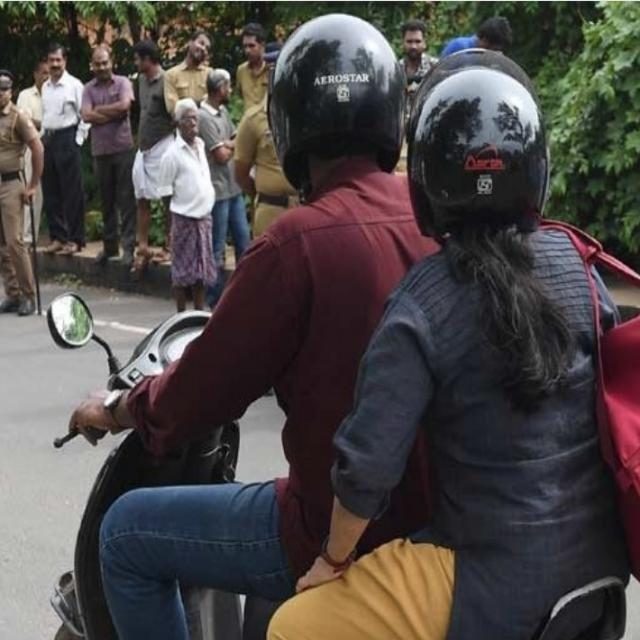With Helmet: (36, 12, 638, 640)
